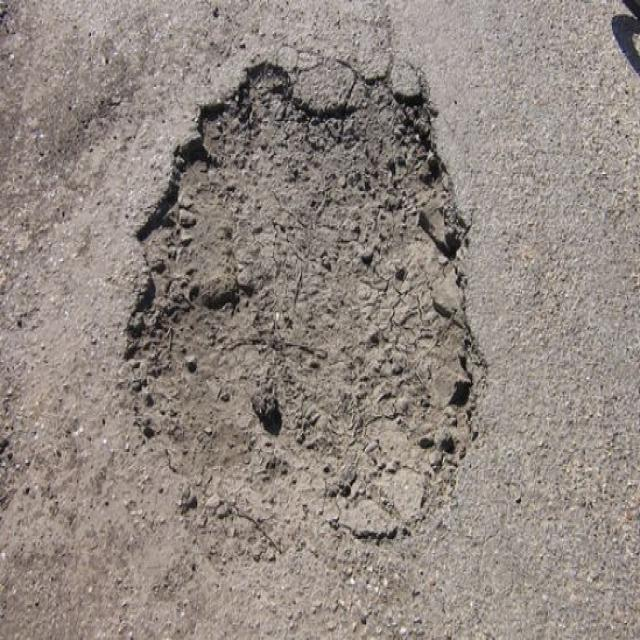pothole: (118, 36, 491, 576)
